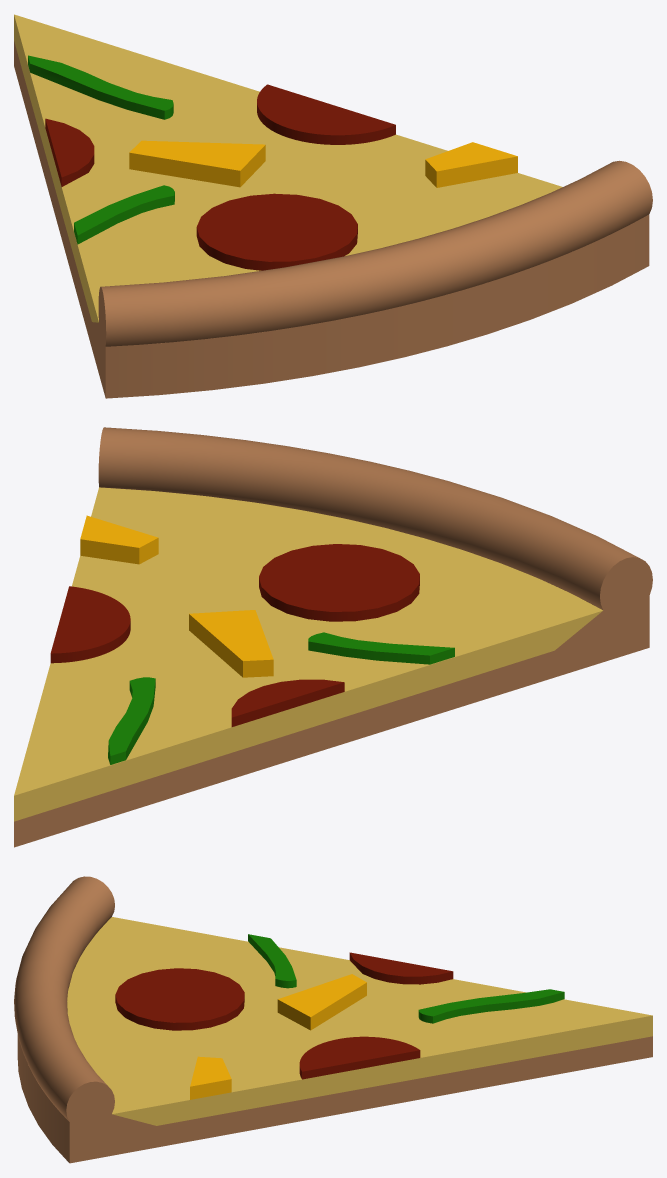
Rendered from pizza slice.fbx.
3 renders of one model, top to bottom at view 1: azimuth 30°, elevation 25°; view 2: azimuth 150°, elevation 25°; view 3: azimuth 270°, elevation 25°, orthographic. The views are drawn at different scales.
Parts seen in each view (by area): view 1: Crust_2, Pizza, Peperoni, pineapple_2, green pepper_2; view 2: Pizza, Crust_2, Peperoni, pineapple_2, green pepper_2; view 3: Pizza, Crust_2, Peperoni, pineapple_2, green pepper_2.
Part boxes in pixels (x1,y1,x2,y2): Crust_2: (14, 41, 652, 398); Pizza: (14, 14, 562, 322); Peperoni: (45, 84, 395, 270); pineapple_2: (129, 140, 517, 187); green pepper_2: (28, 55, 174, 244); Pizza: (14, 487, 602, 821); Crust_2: (14, 427, 652, 847); Peperoni: (50, 544, 419, 726); pineapple_2: (80, 515, 273, 677); green pepper_2: (108, 632, 454, 764); Pizza: (67, 917, 652, 1125); Crust_2: (14, 876, 652, 1163); Peperoni: (115, 952, 453, 1079); pineapple_2: (190, 974, 366, 1099); green pepper_2: (248, 934, 564, 1023).
Size of the model in its own units: 0.6726 by 0.1138 by 0.8484.
